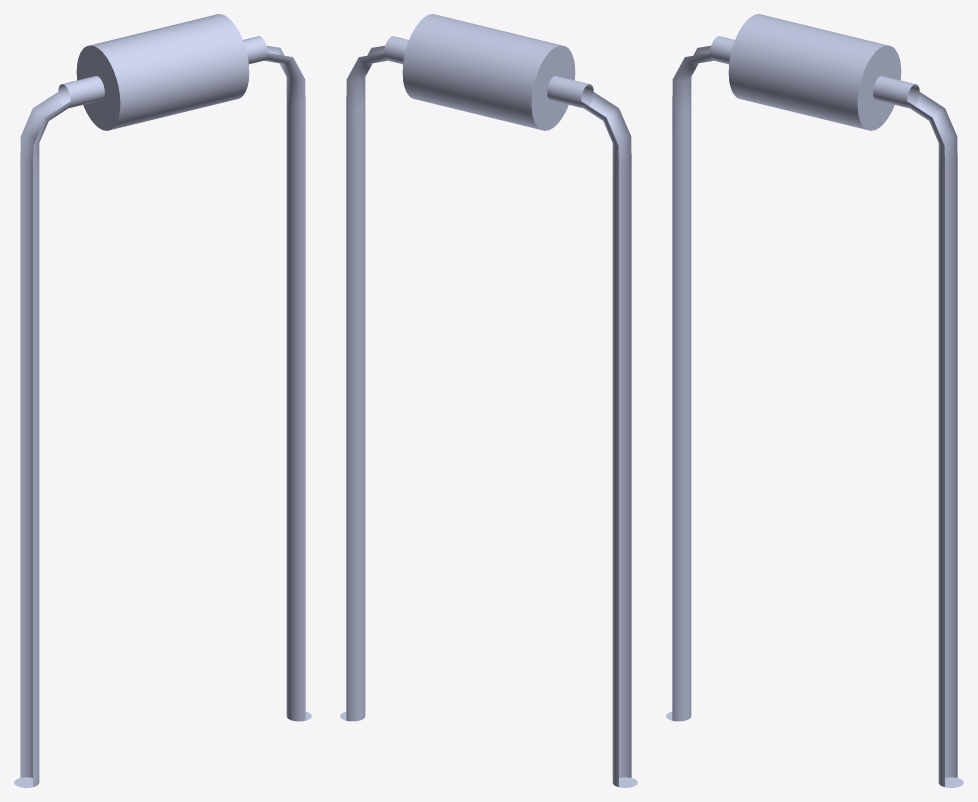
3 views of the same model, side by side, from view 1: azimuth 30°, elevation 25°; view 2: azimuth 150°, elevation 25°; view 3: azimuth 330°, elevation 25° (orthographic).
Visible parts, largest first — view 1: mesh-0; view 2: mesh-0; view 3: mesh-0.
Part boxes in pixels (x1,y1,x2,y2): mesh-0: (14, 14, 311, 787); mesh-0: (340, 14, 637, 787); mesh-0: (666, 14, 963, 787).
Size of the model in its own units: 10.57 by 24.6 by 2.72.
